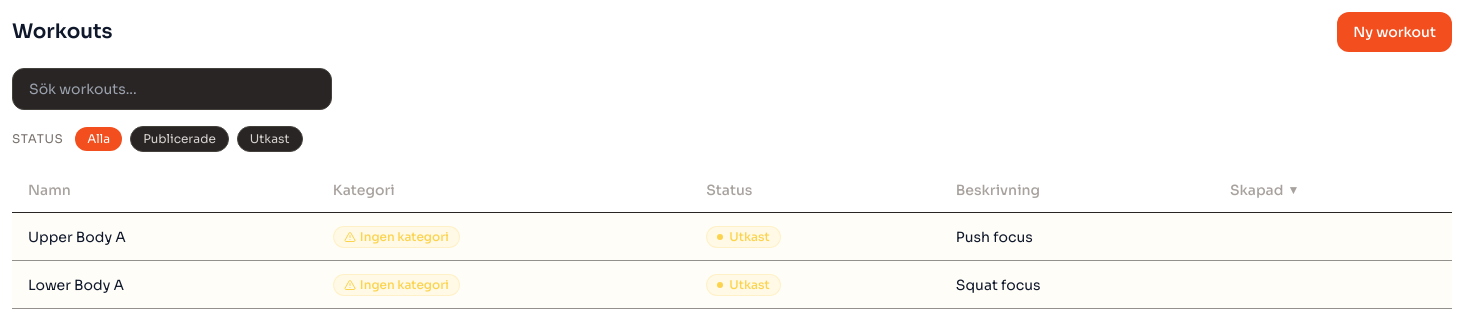
WorkoutList › filters workouts by search text
Check: the text "Upper Body A" is shown, box [28,226,126,246]
Type "upper" into the field with placeholder "Sök workouts..." at x=172, y=89, box [12,68,332,110]
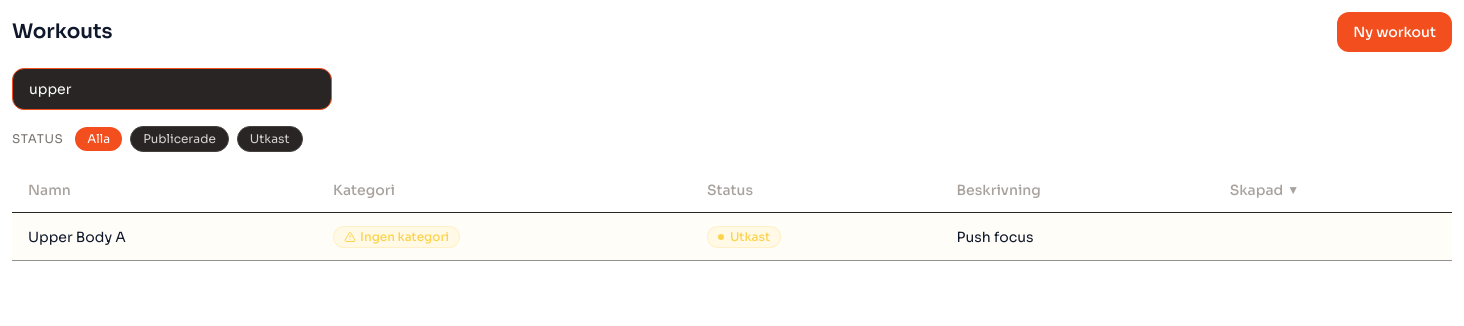
Check: the text "Upper Body A" is shown, box [28,226,126,246]
Check: the text "Lower Body A" is gone
